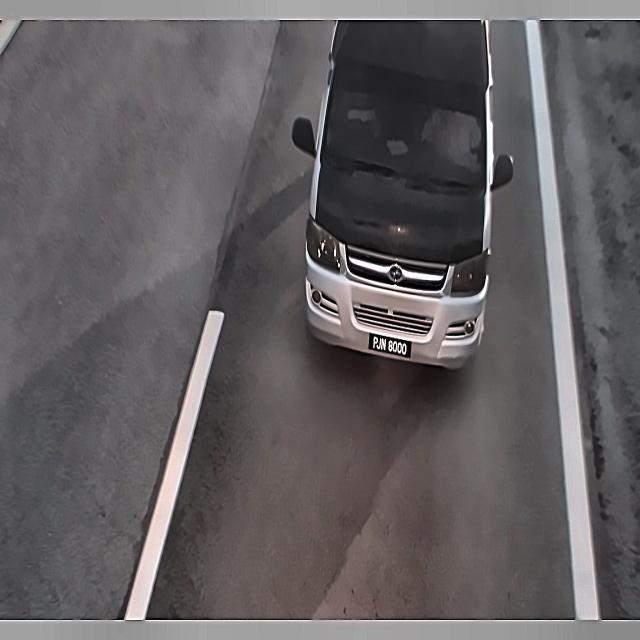car: (359, 328, 423, 365)
